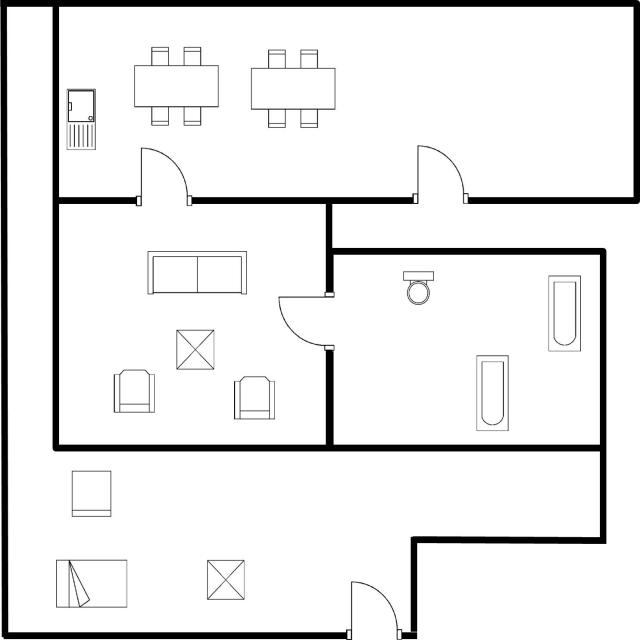armchair: (229, 372, 279, 426), (108, 365, 159, 417)
bed: (49, 554, 132, 614)
coffee_table: (171, 326, 220, 375), (202, 556, 249, 605)
dining_table: (245, 43, 341, 133), (129, 42, 224, 132)
large_sink: (396, 266, 439, 310)
large_sofa: (140, 247, 252, 301)
sink: (62, 84, 102, 154)
small_sofa: (68, 465, 117, 521)
tub: (471, 350, 514, 436), (543, 272, 584, 356)
